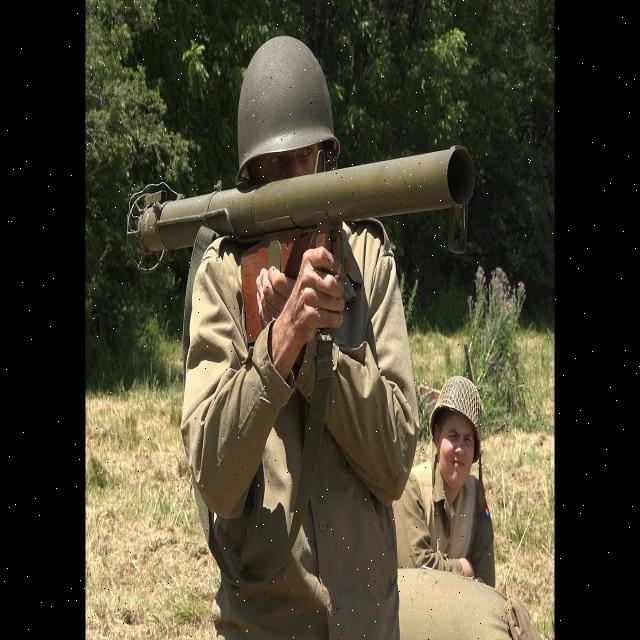bazooka: (127, 137, 479, 277)
